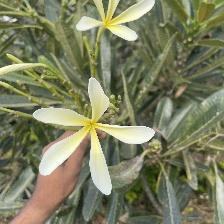champaka: (31, 76, 158, 199), (76, 1, 159, 46)
